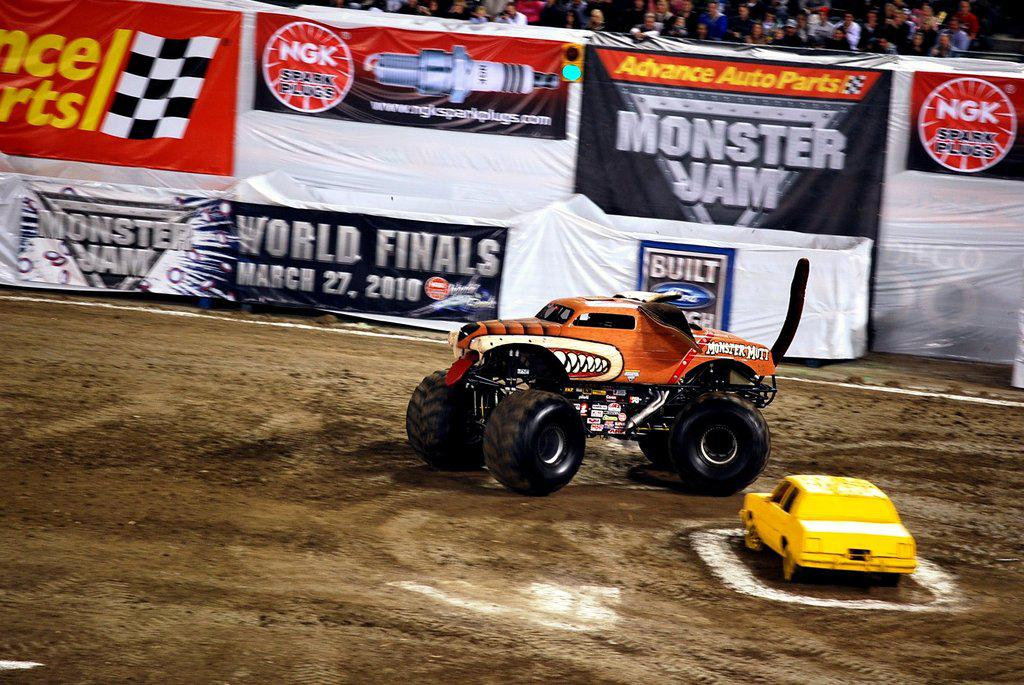taxi: (740, 476, 918, 584)
